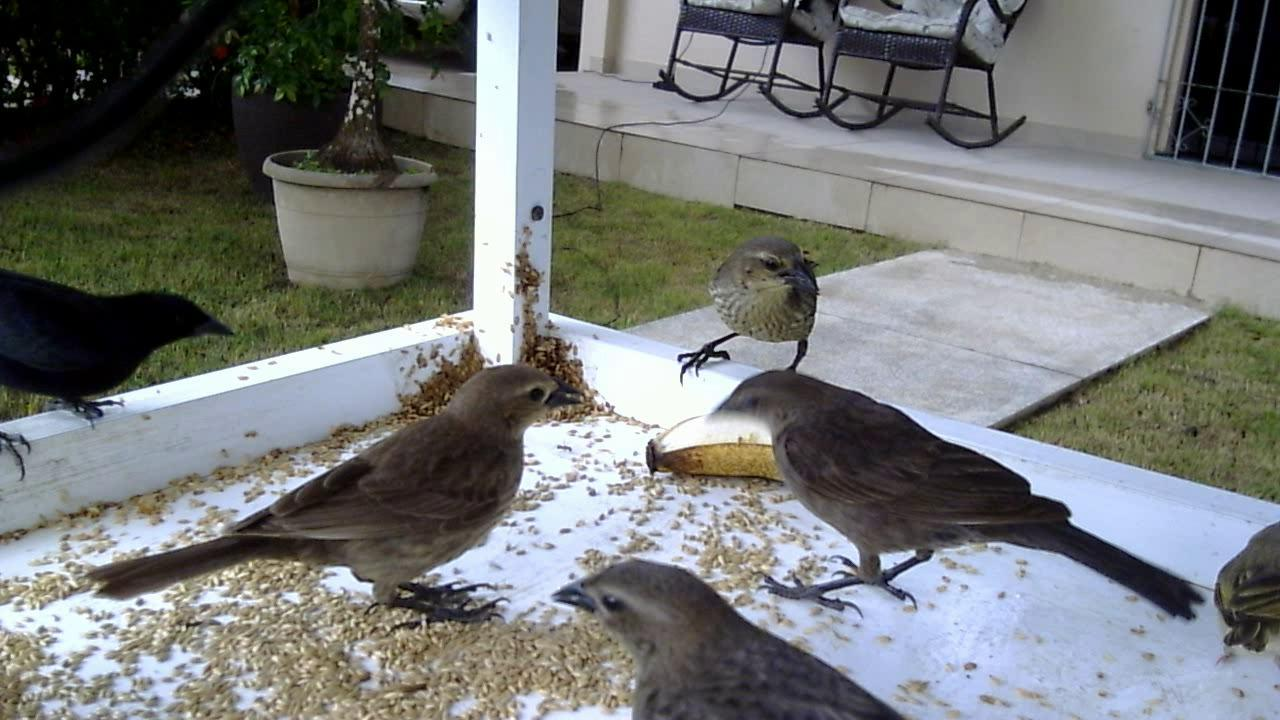canario_do_amazonas: (1210, 501, 1280, 674)
chupim: (701, 348, 1218, 650), (83, 357, 597, 631), (528, 549, 972, 718), (1, 264, 239, 489), (668, 228, 832, 397)
